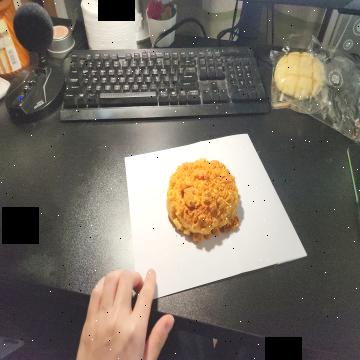soboru_bread: (166, 158, 241, 242)
